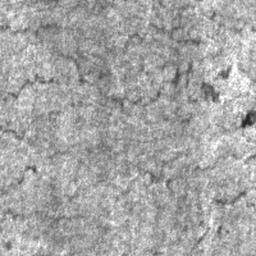Crazing: (0, 0, 256, 235), (189, 224, 223, 256), (219, 110, 256, 135), (213, 188, 248, 207), (2, 240, 12, 252)
